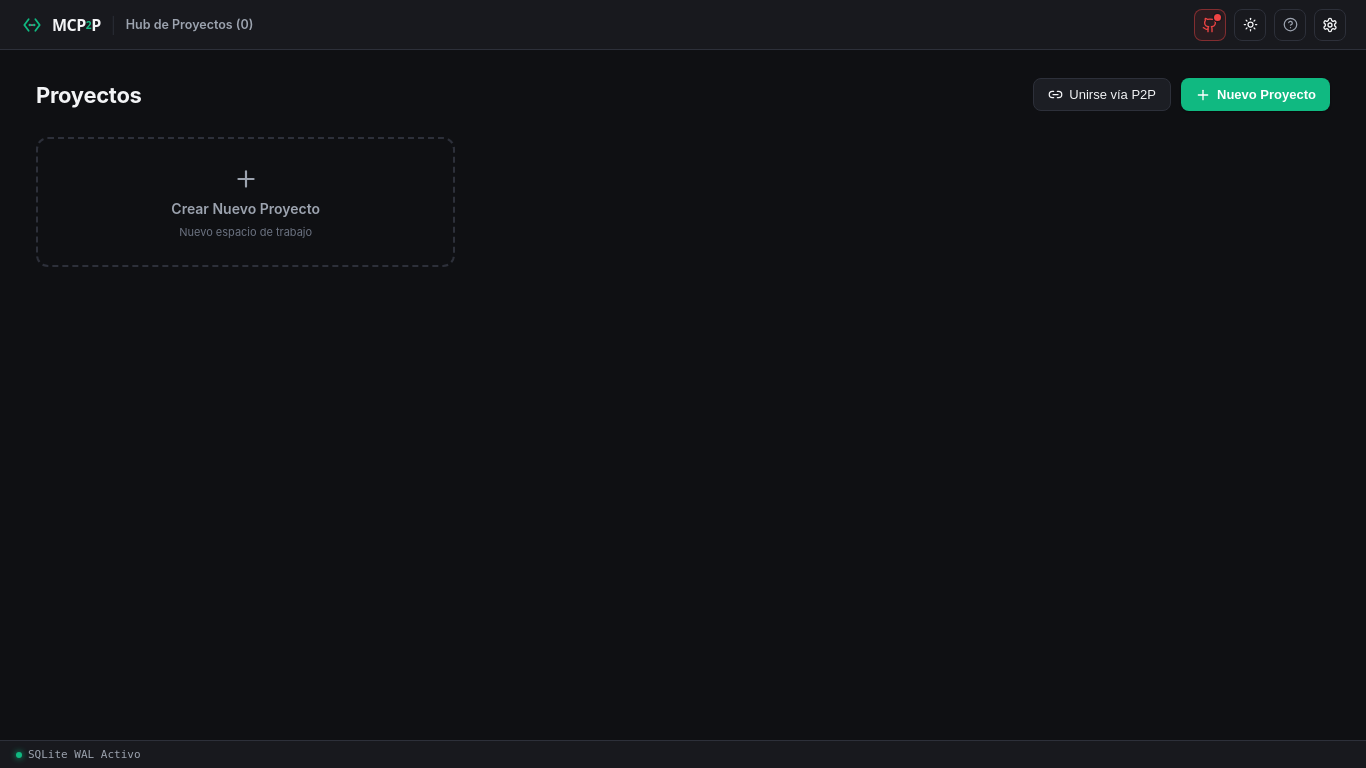
Test: App - flujo de unión P2P pendiente › el mensaje de "todavía pendiente" admite que un rechazo no se notifica (hallazgo I2)
Click the button "Unirse vía P2P".
click(1102, 94)  # box 1033,78 -> 1171,111
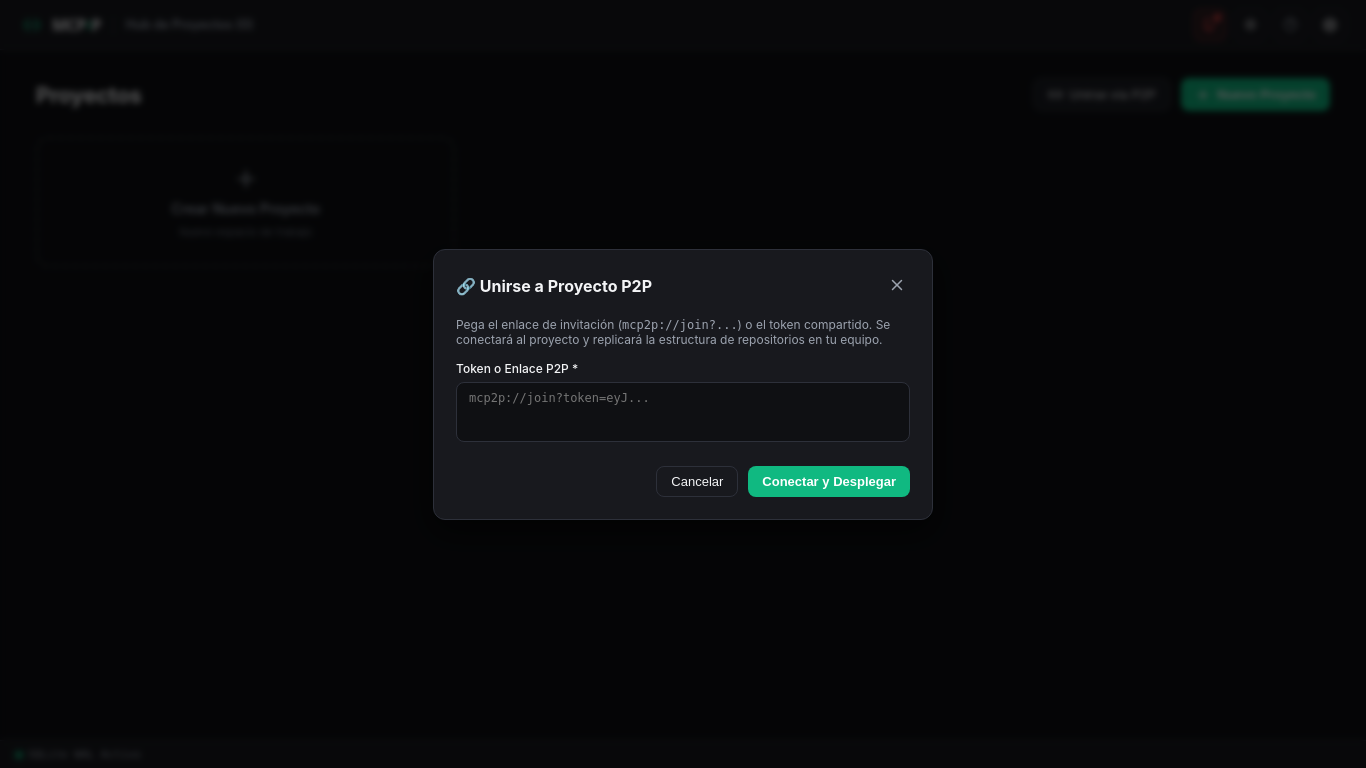
Type "mcp2p://join?token=abc" into the text box with placeholder "mcp2p://join?token=eyJ...".
click(683, 412); type("mcp2p://join?token=abc")  # box 456,382 -> 910,442
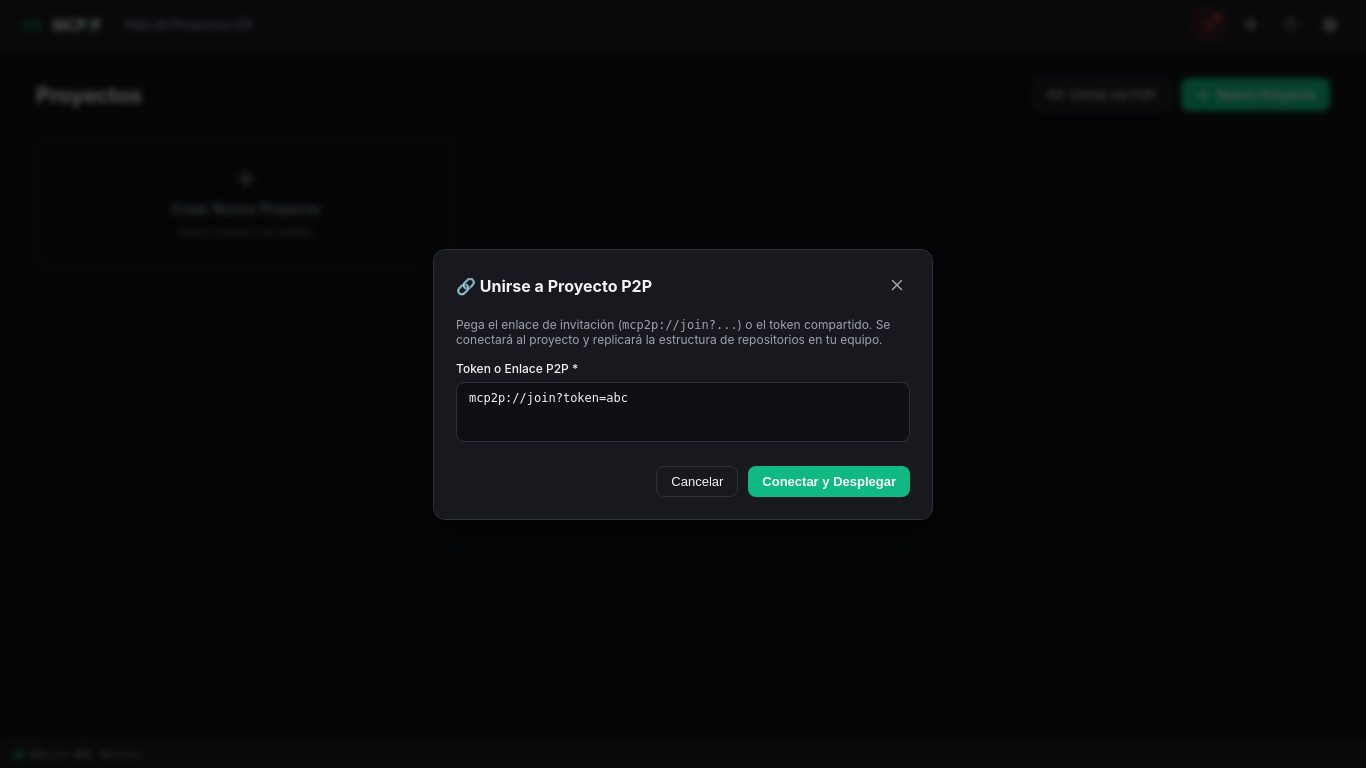
Click the button "Conectar y Desplegar".
click(829, 481)  # box 748,466 -> 910,496
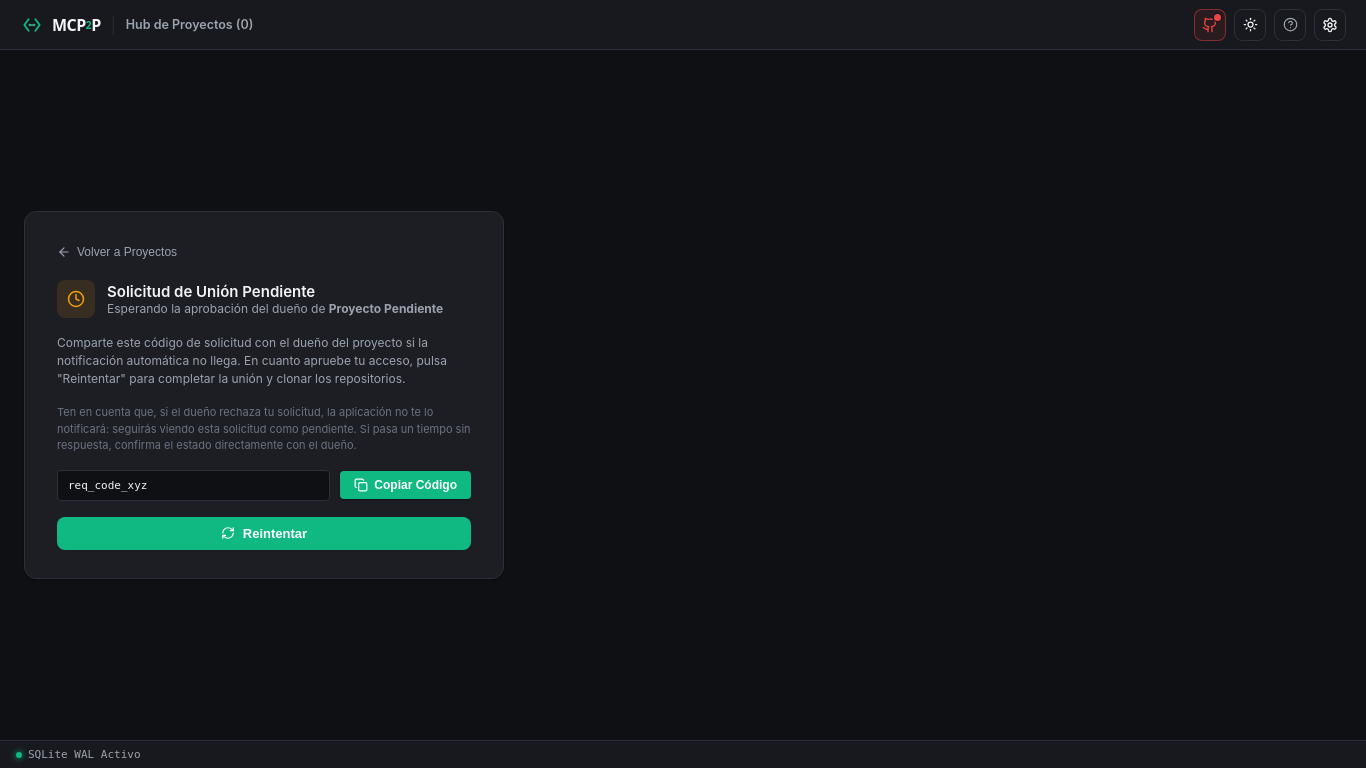
Expected: the element with test id "join-request-pending" is shown, 24,211 -> 504,579
Click the button "Reintentar".
click(264, 533)  # box 57,517 -> 471,550
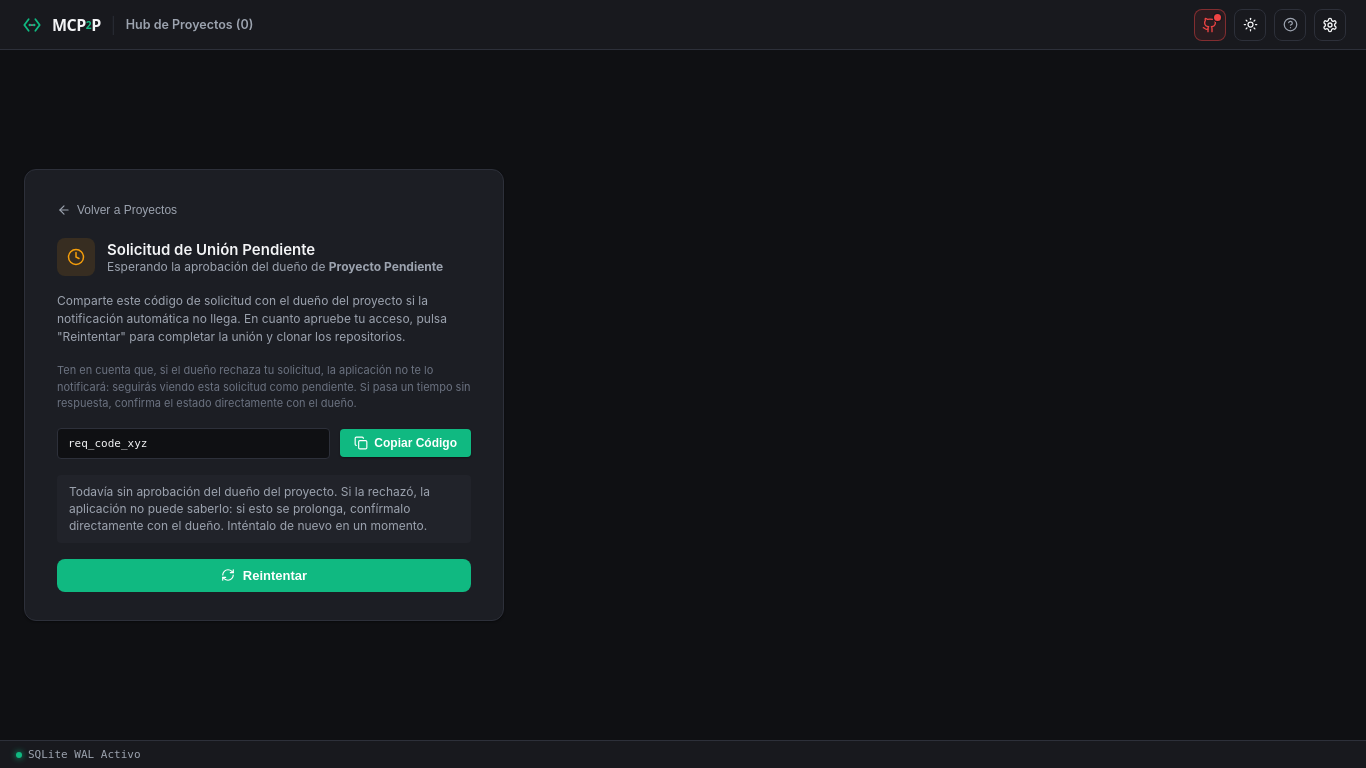
Expected: the text with test id "join-request-status-message" shows "Si la rechazó, la aplicación no puede saberlo", 69,484 -> 430,534
